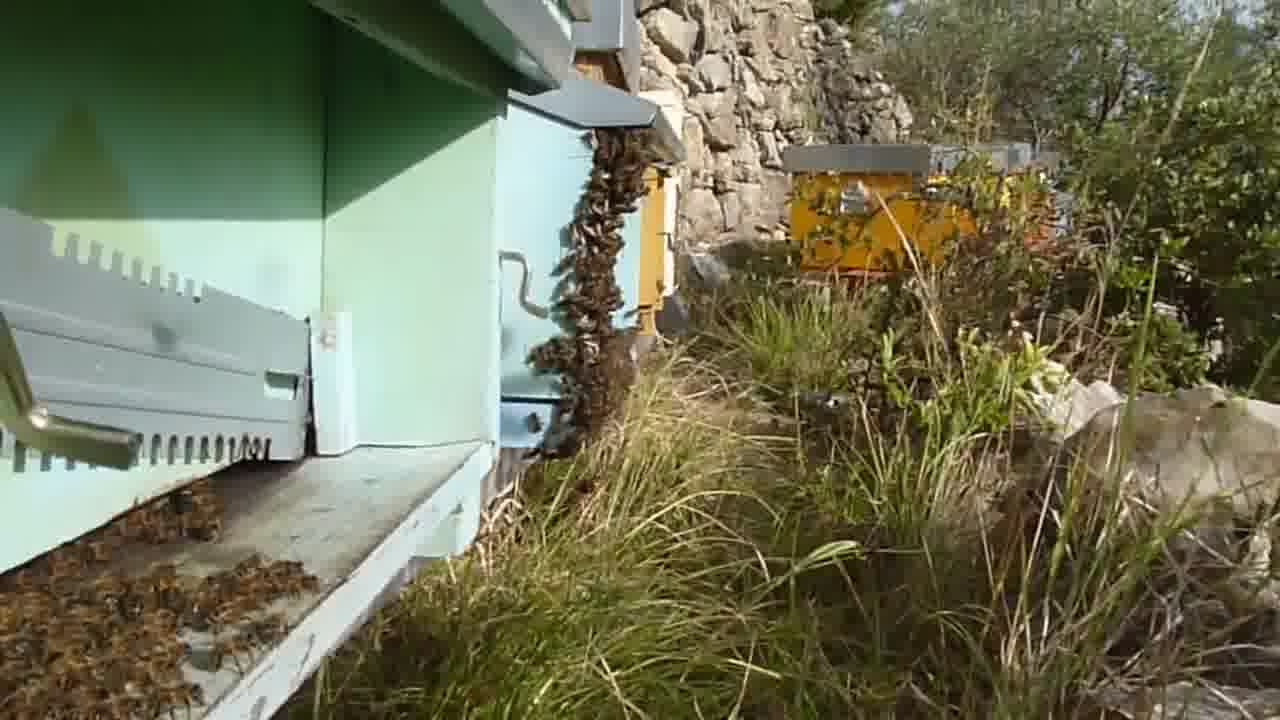bee: (3, 571, 195, 720), (203, 550, 317, 658), (526, 329, 637, 401), (587, 119, 657, 208), (135, 480, 228, 544), (548, 262, 624, 323), (569, 206, 629, 265)
